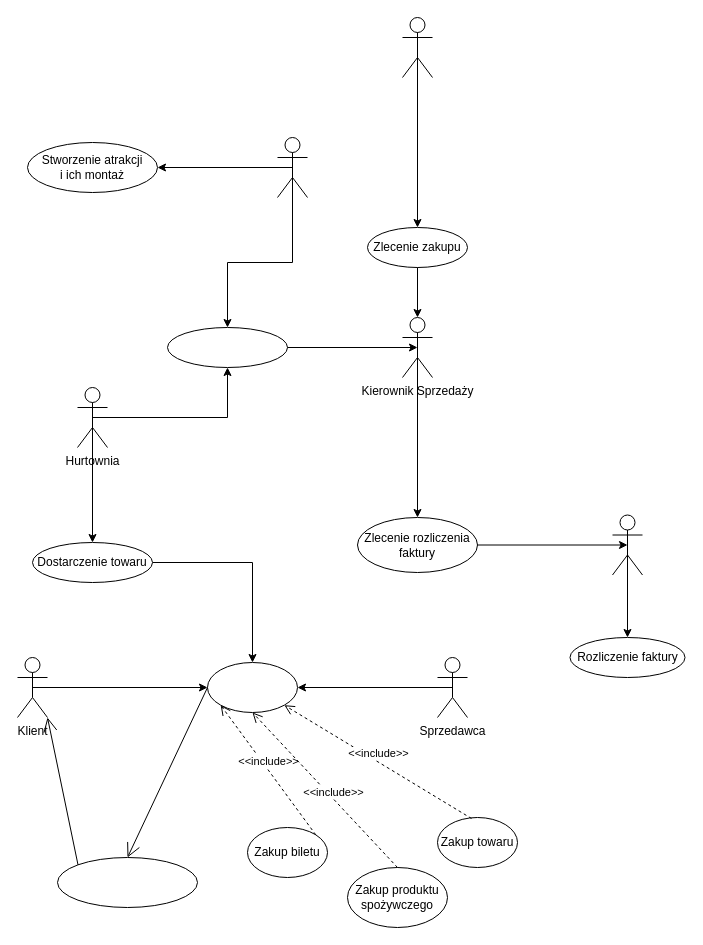
Some shapes in this 703 by 945 pixel diagram are drawn without their labels. The shapes that lost their labels are listed below. From the top down, each one's box as (x1, y1, x2, y2) in pixels, then its label:
(402, 16, 432, 78): Właściciele
(276, 136, 308, 198): Firma od atrakcji parku rozrywki
(166, 326, 288, 368): Wystawienie faktury
(612, 514, 642, 575): Księgowy
(206, 662, 298, 712): Zakup
(56, 856, 198, 908): Wystawienie paragonu lub faktury
